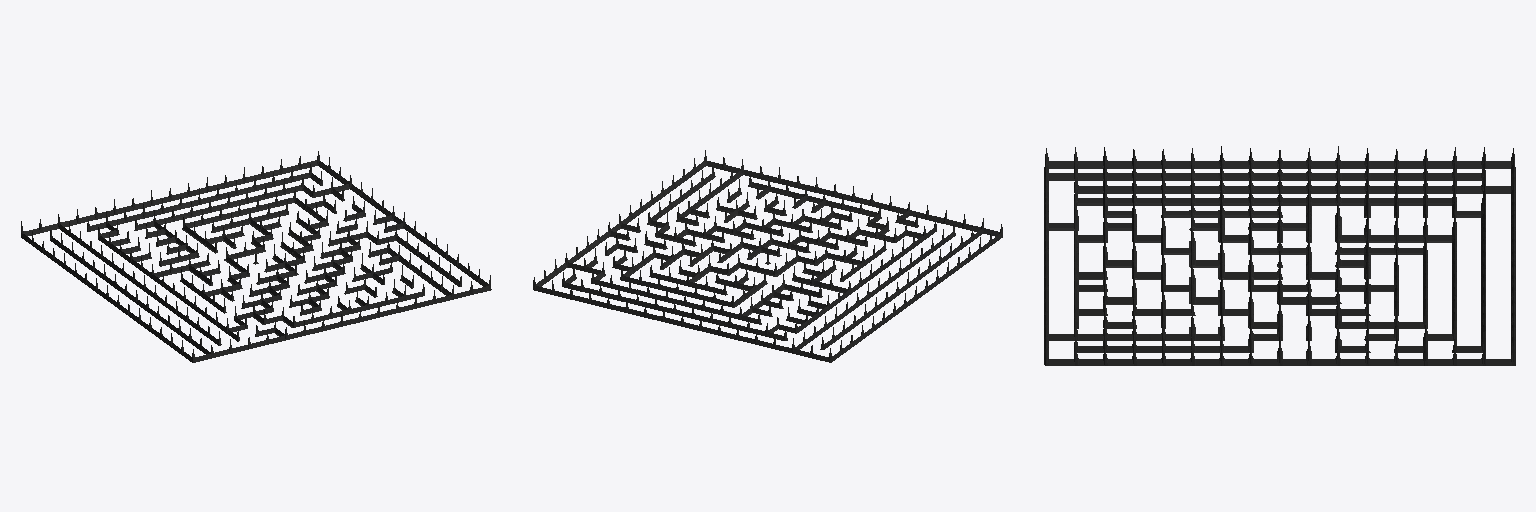
robot.urdf — 2014japan:
<?xml version="1.0"?> 
<robot name="2014japan">

    <material name="black">
        <color rgba="0.2 0.2 0.2 0.95"/>
    </material>

    <link name="base_link">
        <visual>
            <origin xyz="0.0 0.0 0.05" rpy="0.0 0.0 0.0"/>
            <geometry>
                <mesh filename="meshes/2014japan.obj" scale="0.02 0.02 0.01" />
            </geometry>
          <material name="black"/>
        </visual>

        <collision concave="yes" name="collision_0">
           <origin xyz="0.0 0.0 0.05" rpy="0.0 0.0 0.0"/>
            <geometry>
                <mesh filename="meshes/2014japan.obj" scale="0.02 0.02 0.01" />
            </geometry>
        </collision>

        <inertial> 
            <mass value="0"/>
            <inertia ixx="0" ixy="0" ixz="0" iyy="0" iyz="0" izz="0"/>
        </inertial> 

    </link>
</robot>

--- Render facts (derived) ---
The picture shows the robot from 3 angles, left to right: view 1: azimuth 30°, elevation 25°; view 2: azimuth 150°, elevation 25°; view 3: azimuth 270°, elevation 25°; orthographic projection.
Robot: 2014japan — 1 links, 0 joints (none); root link base_link; default pose: every joint at zero.
Links seen in each view (by area): view 1: base_link; view 2: base_link; view 3: base_link.
Link boxes in pixels (left/top/right/bottom): base_link: left=21, top=151, right=491, bottom=362; base_link: left=533, top=150, right=1002, bottom=362; base_link: left=1044, top=146, right=1515, bottom=365.
Size in the robot's own frame: 2.01 by 2.01 by 0.1 metres.
1 mesh visuals loaded from 1 distinct referenced files (1 OBJ).